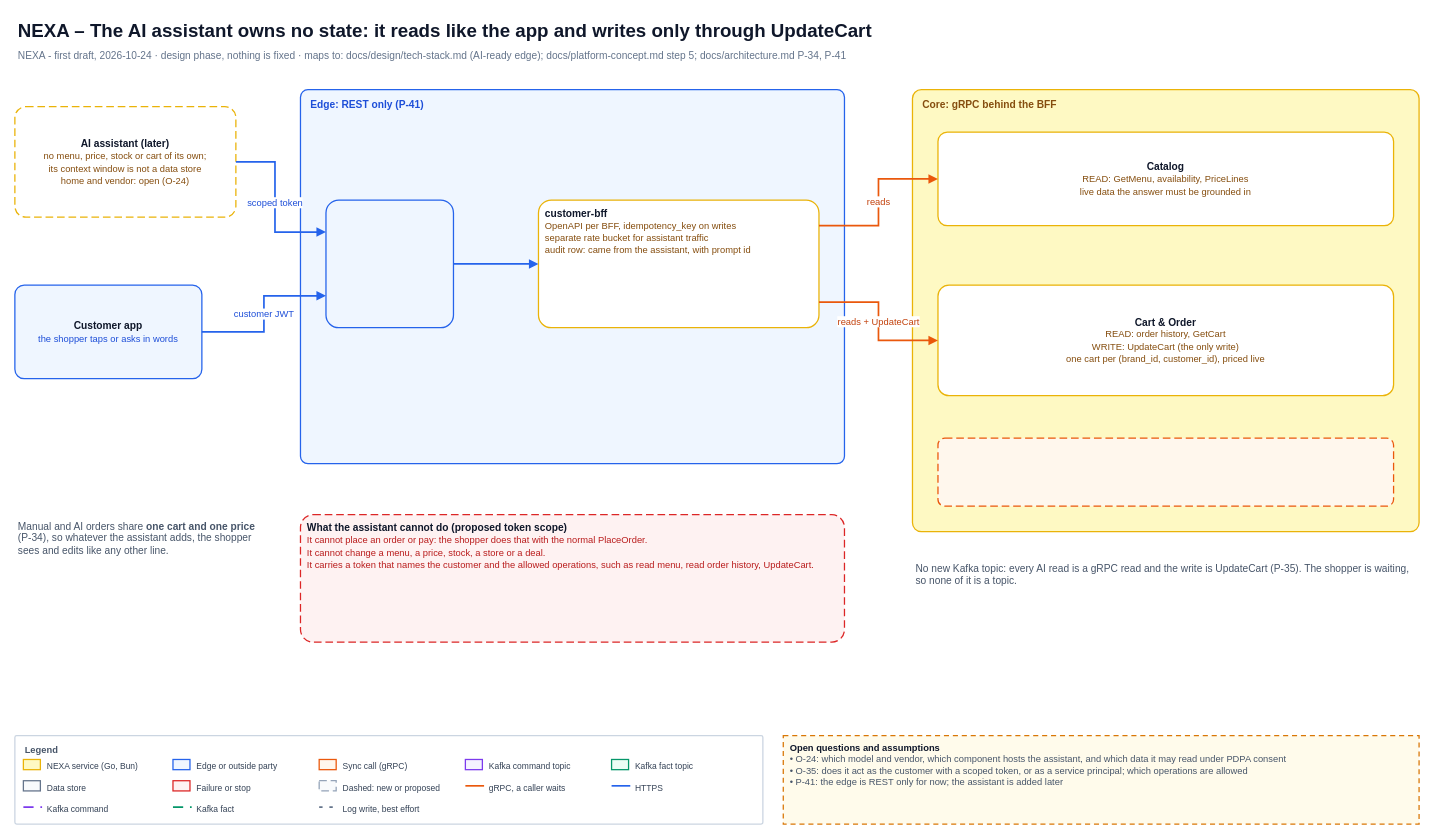
Some shapes in this 1435 by 839 pixel diagram are drawn without their labels. The shapes that lost their labels are listed below. From the top down, each one's centre as x and y in pixels, then its label:
At (389,263): "Kong the only policy enforcement point".
At (1165,471): "Identity & Profile PDPA consent decides what the assistant may read (O-24)".
